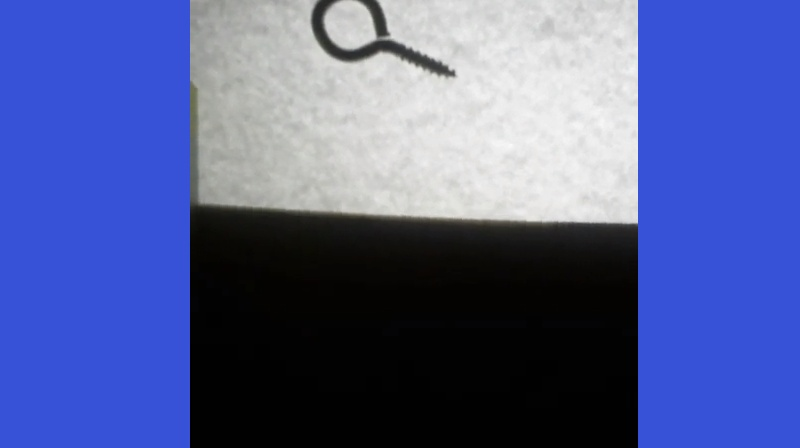O001: (306, 0, 458, 81)
